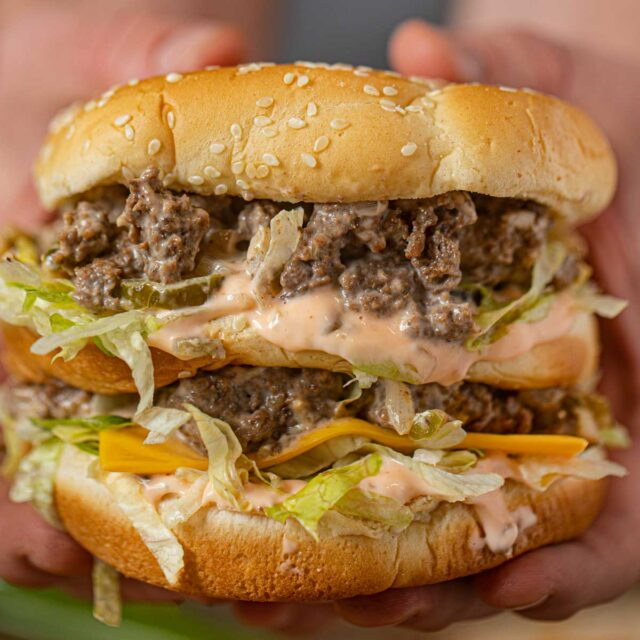hamburger_buns: (27, 44, 626, 241), (27, 429, 622, 592)
